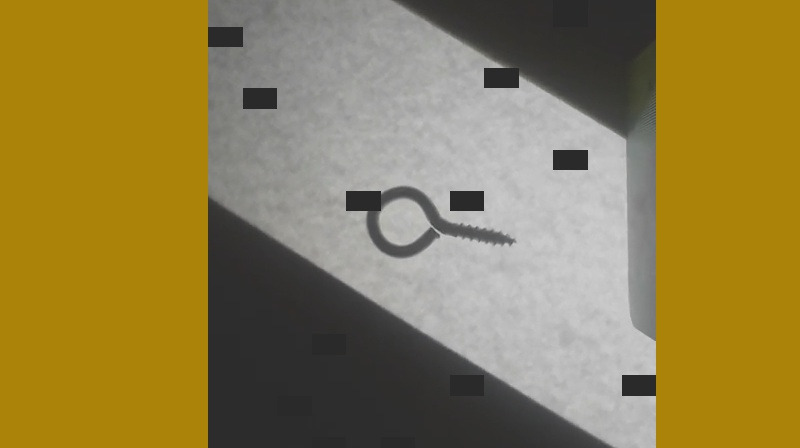O001: (364, 182, 519, 264)
